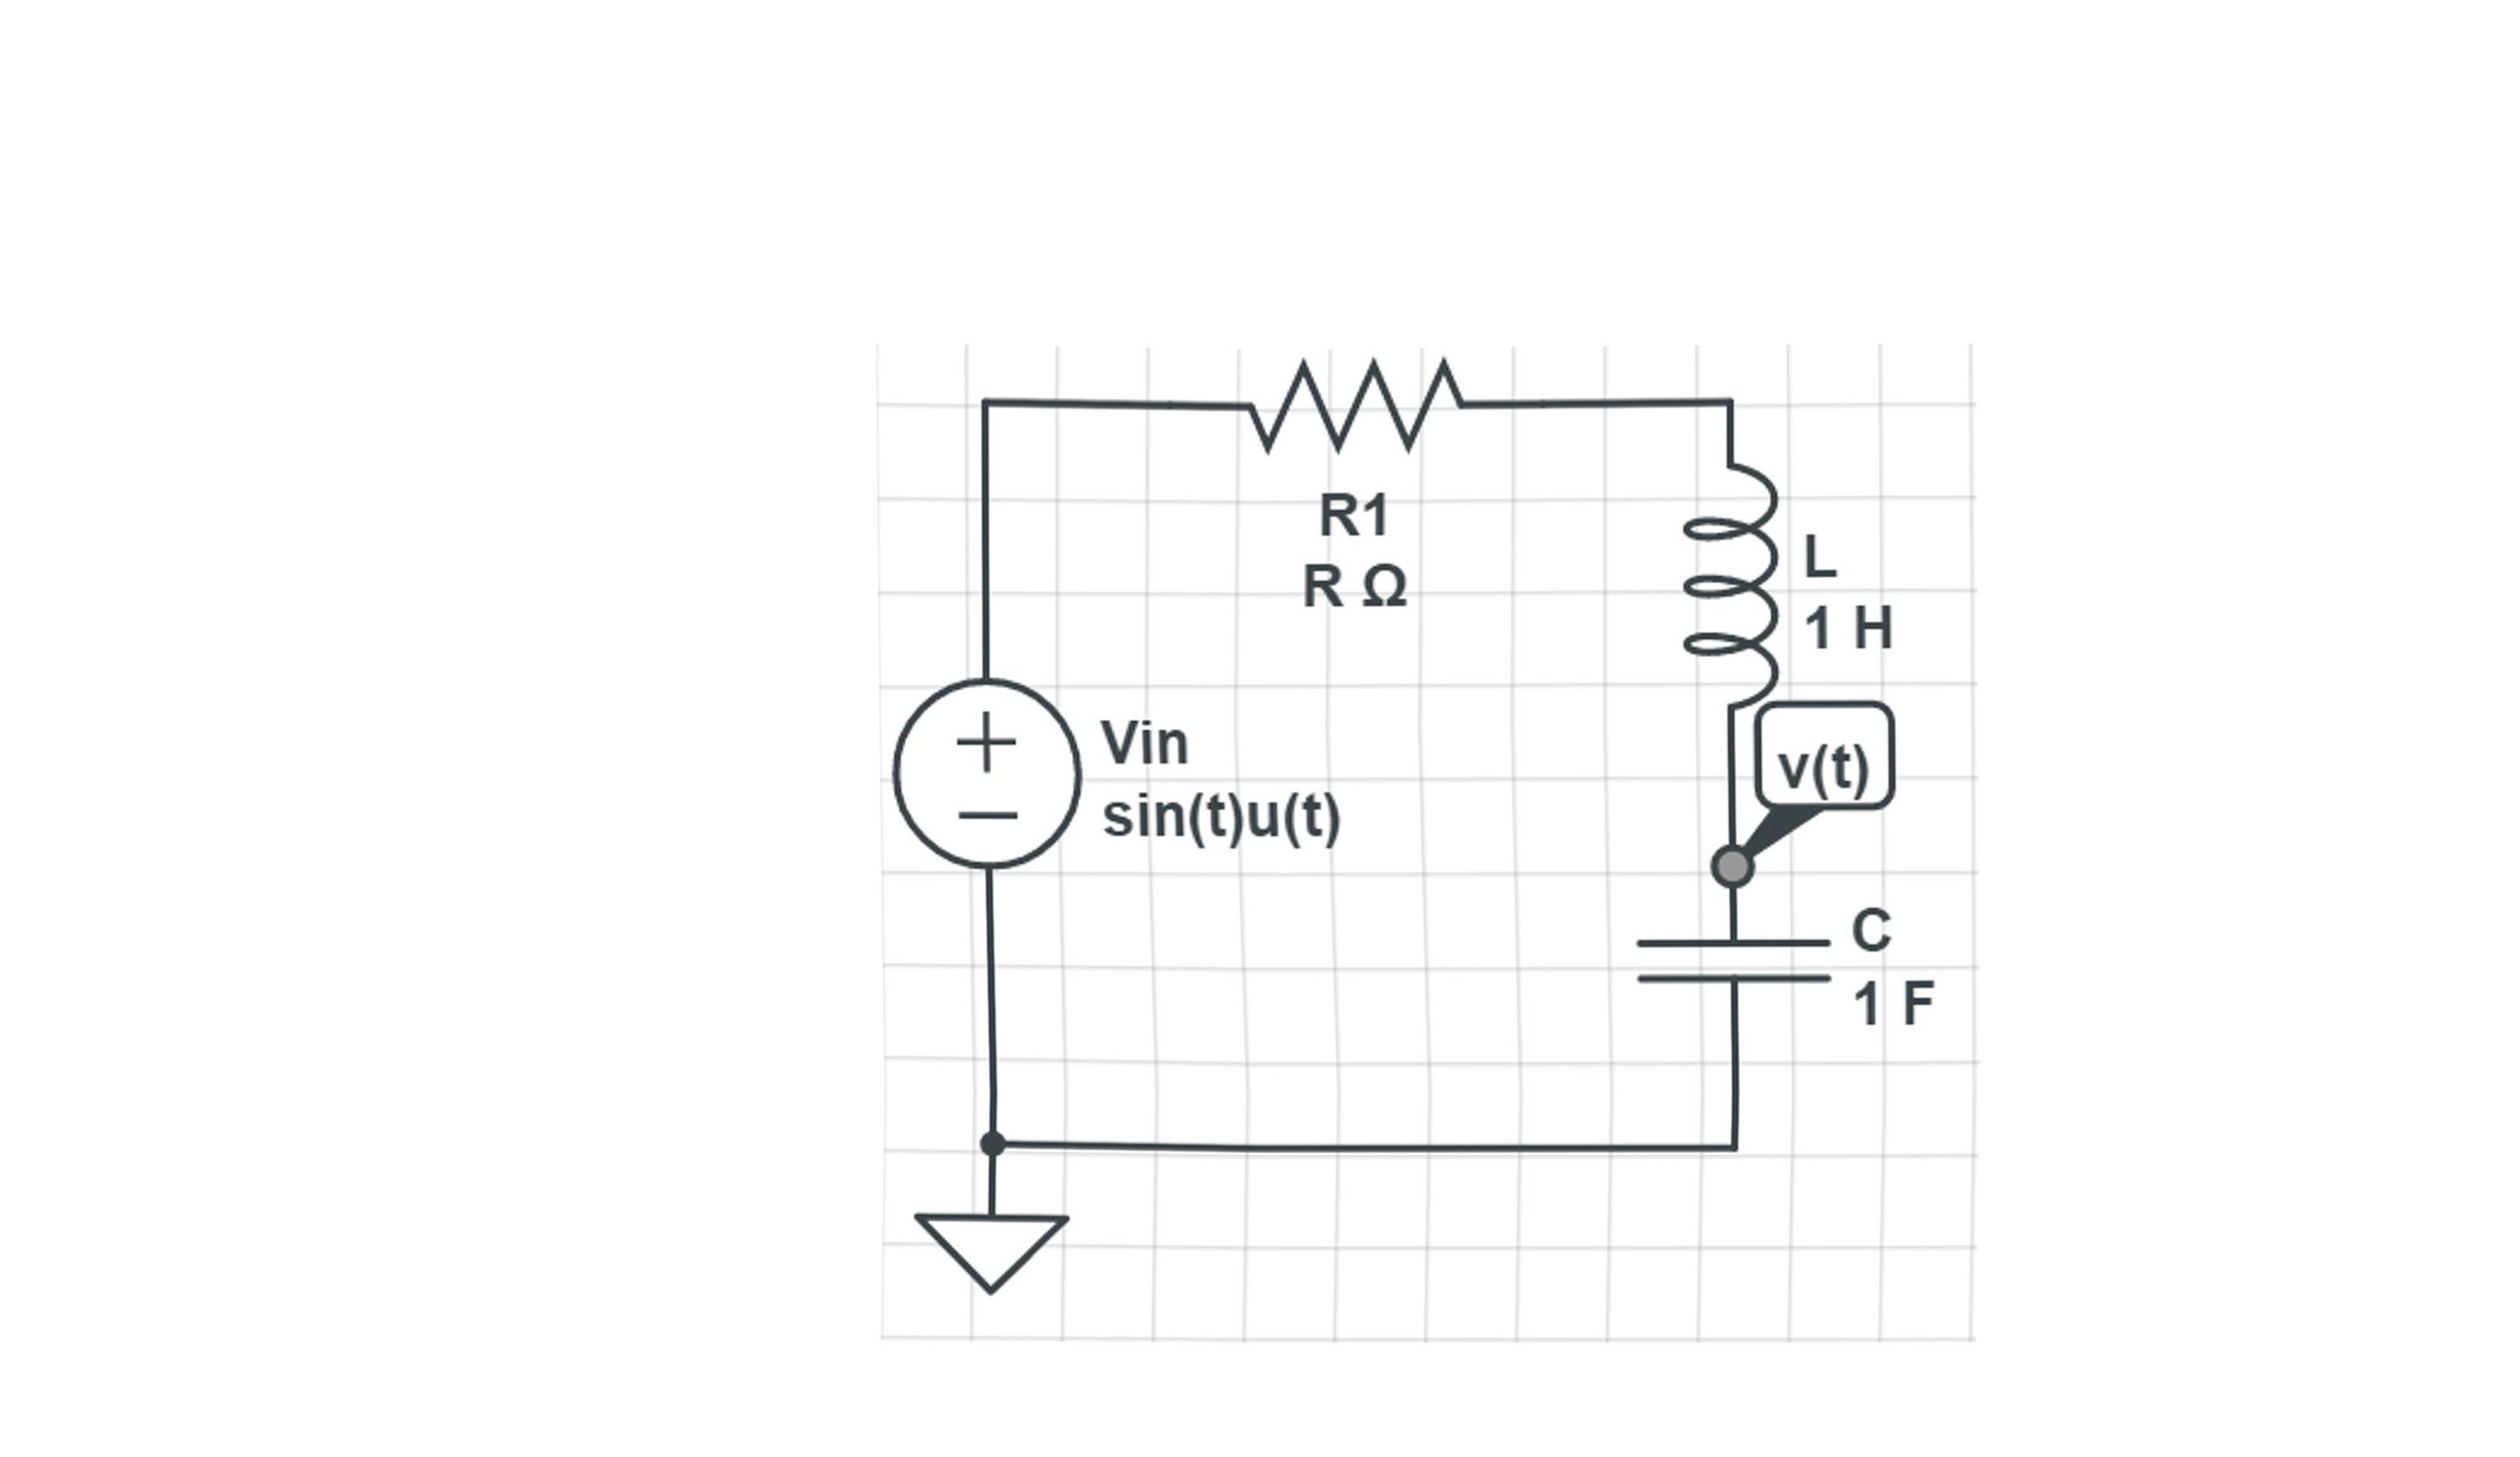Battery: (853, 659, 1097, 893)
